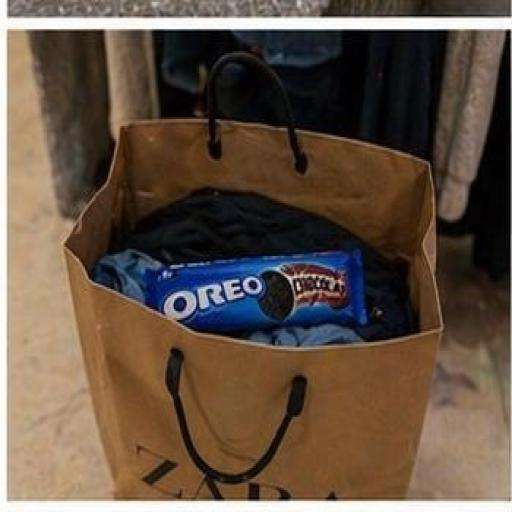oreo: (138, 230, 395, 381)
